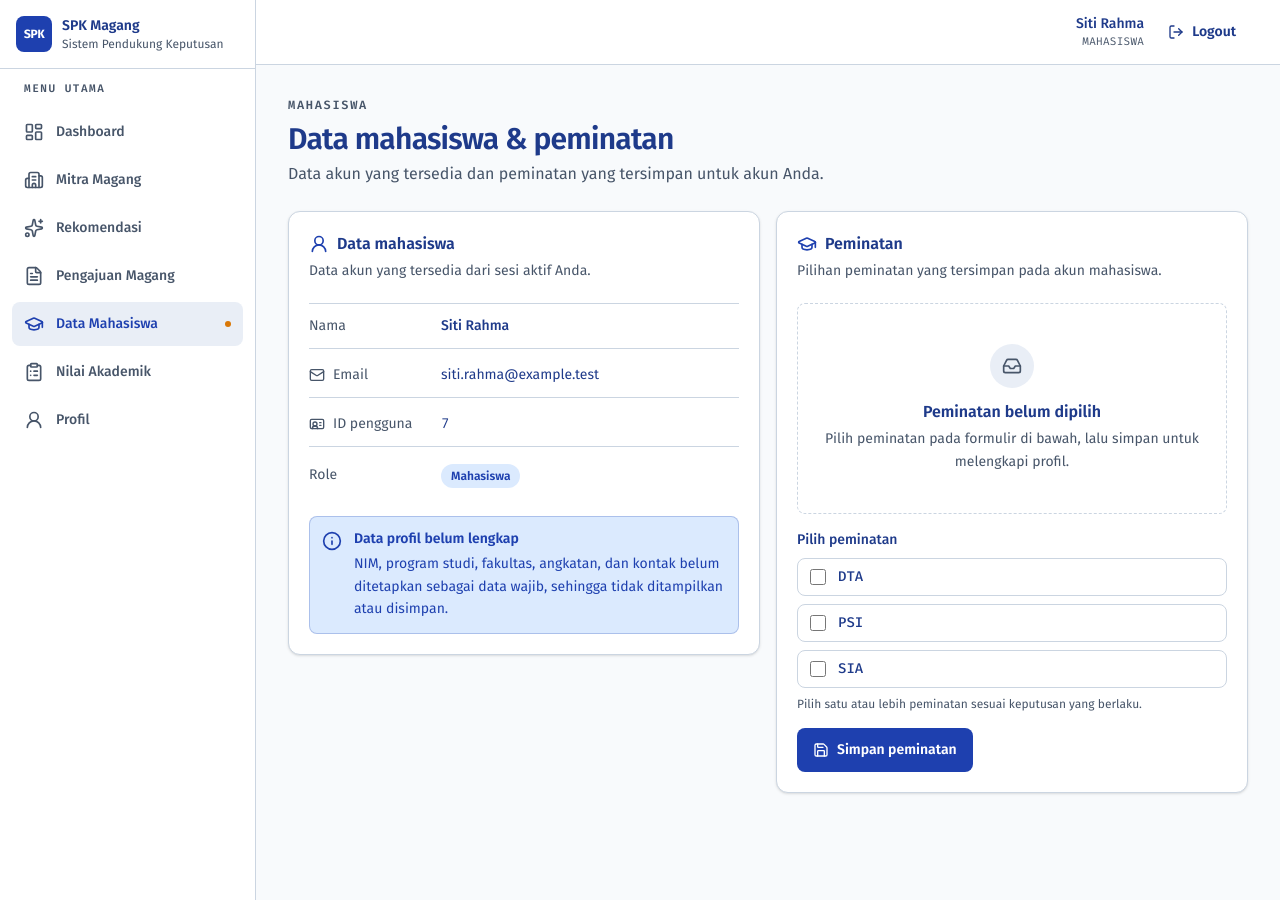
it: StudentDataPage › menyimpan beberapa pilihan ketika mode multiple aktif
Click the checkbox labelled "DTA" at (818, 577), box [810,569,826,585]
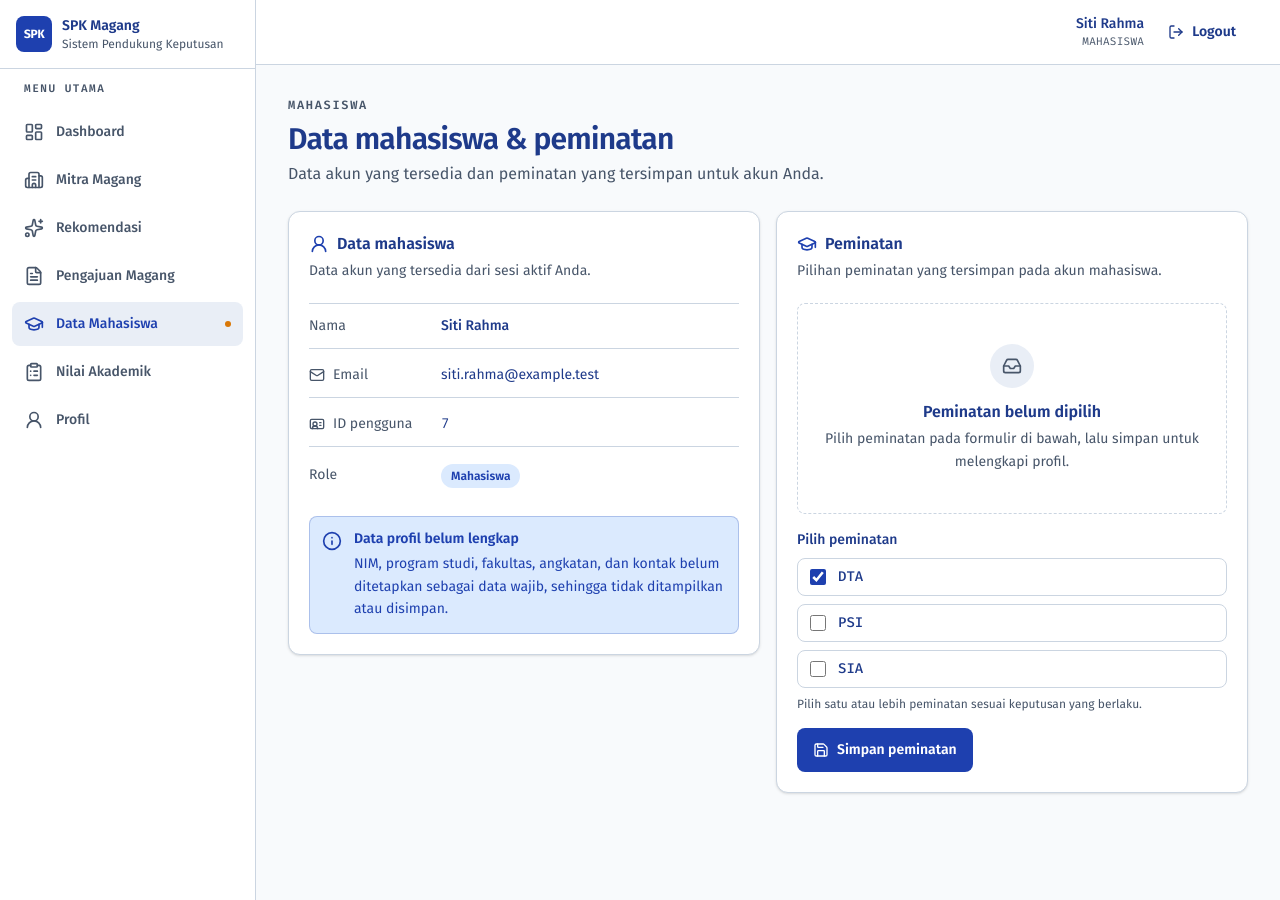
Click the checkbox labelled "PSI" at (818, 623), box [810,615,826,631]
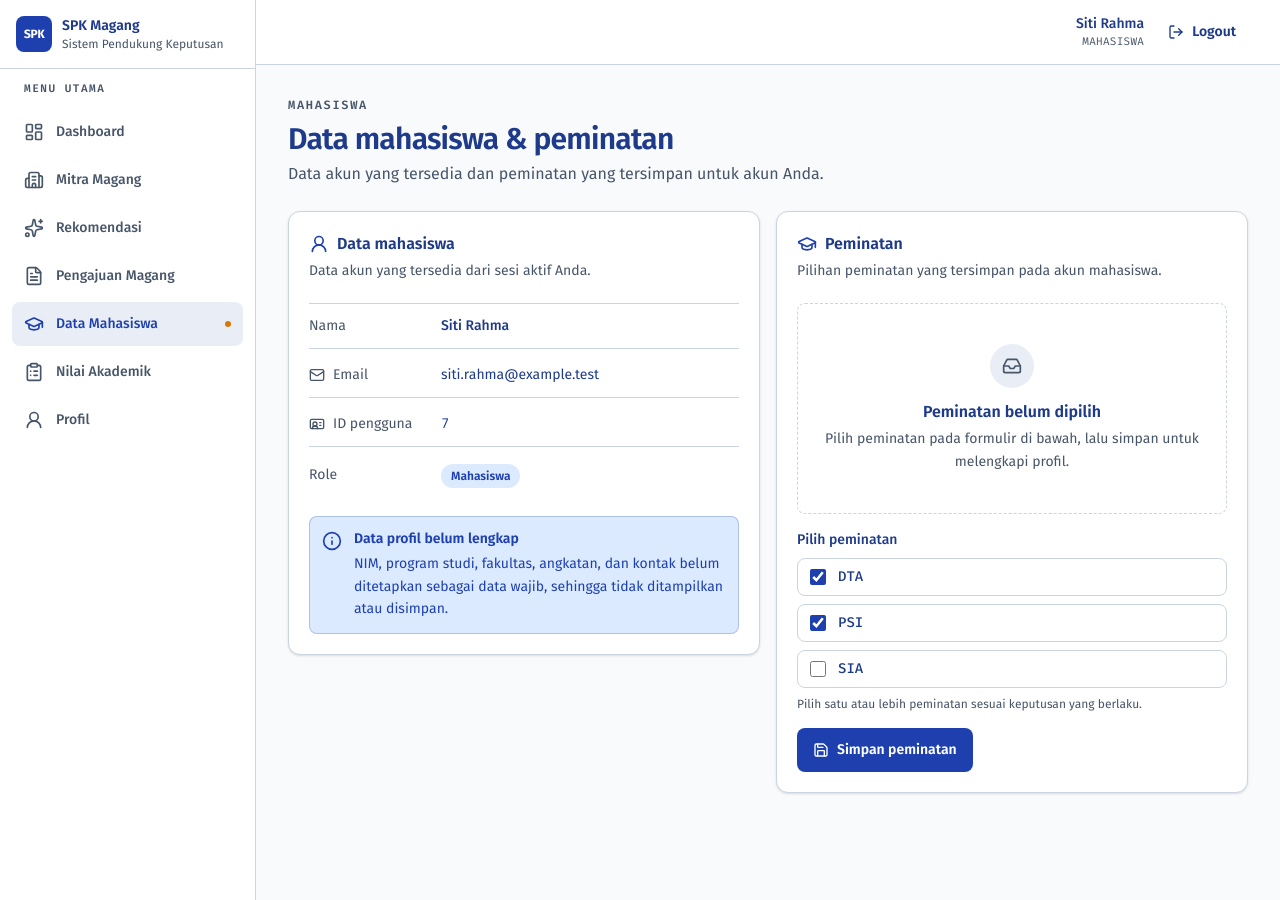
Click the button "Simpan peminatan" at (885, 750), box [797,728,973,772]
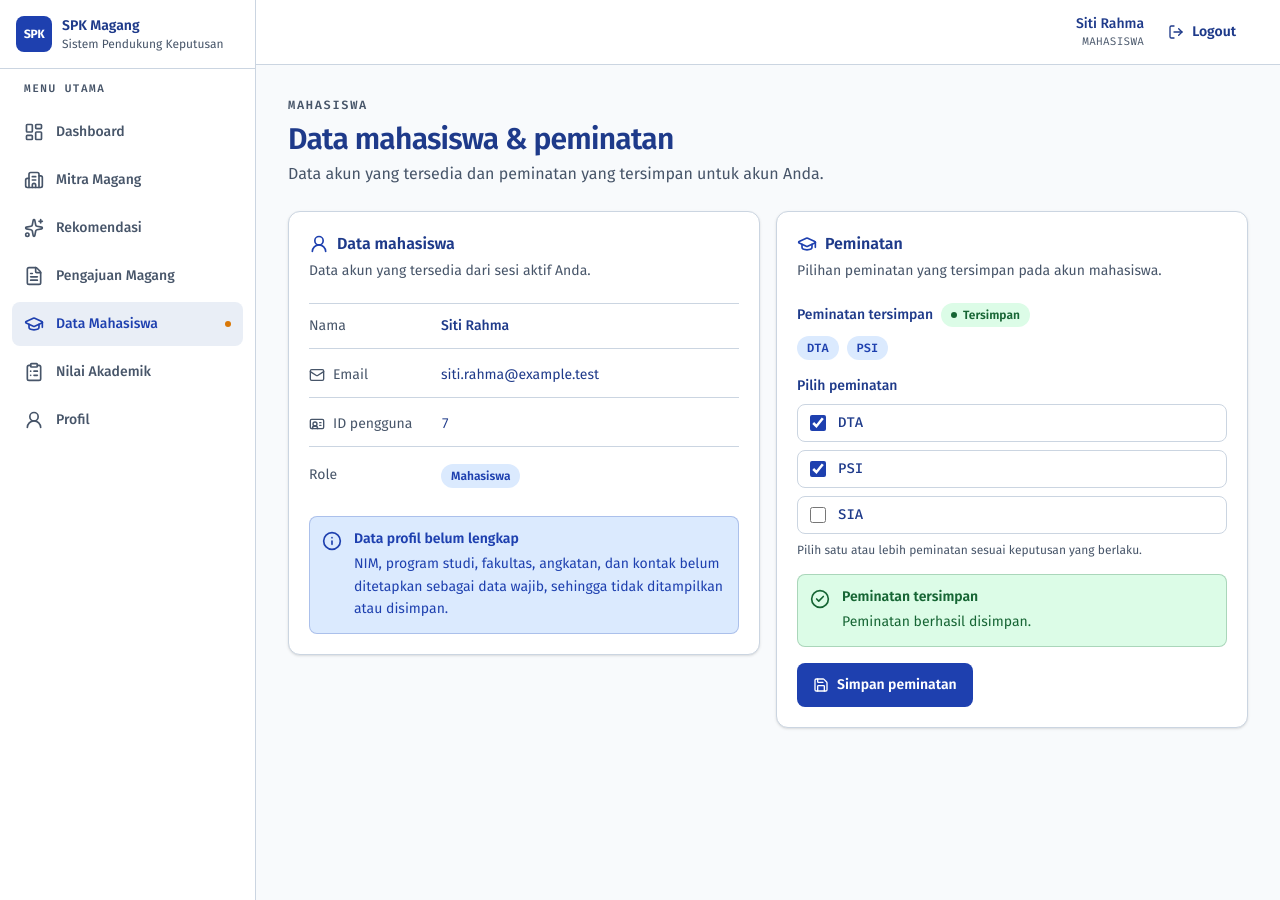
Result: the text "Peminatan berhasil disimpan." is shown at [842,611,1031,634]
